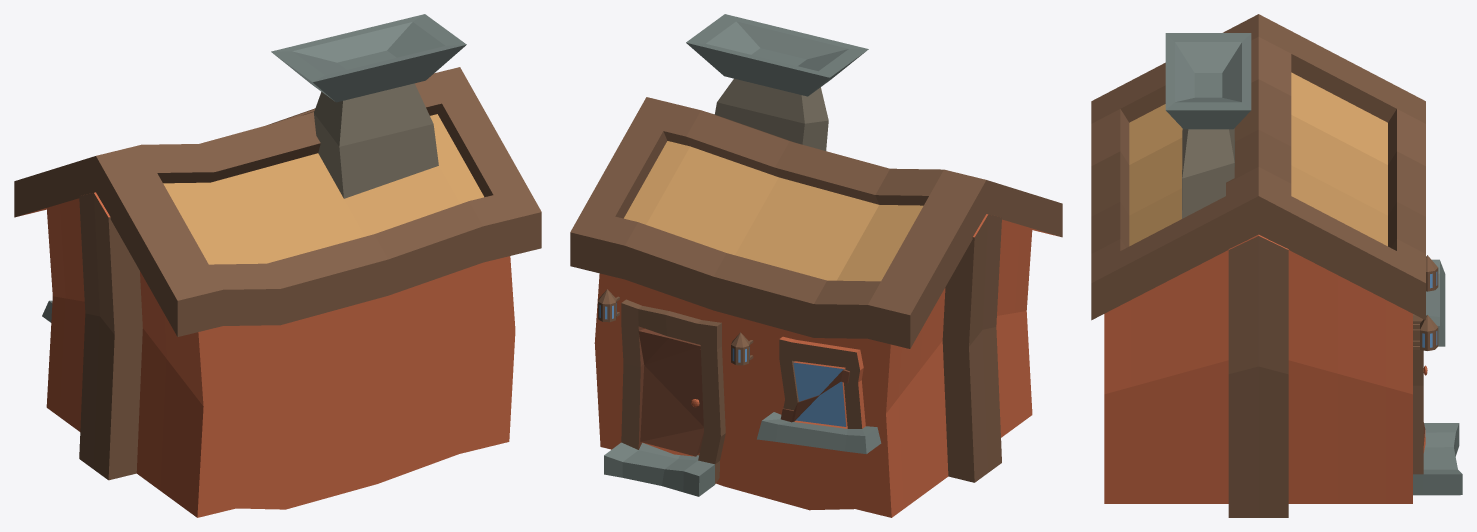
The model's file is C_Casinha4.fbx.
3 views of the same model, side by side, from view 1: azimuth 30°, elevation 25°; view 2: azimuth 150°, elevation 25°; view 3: azimuth 270°, elevation 25° (orthographic). The views are drawn at different scales.
Visible parts, largest first — view 1: Cube; view 2: Cube; view 3: Cube.
Part boxes in pixels (x1,y1,x2,y2): Cube: (14,14,541,517); Cube: (570,14,1062,517); Cube: (1091,14,1462,517).
Size of the model in its own units: 577 by 576 by 484.
